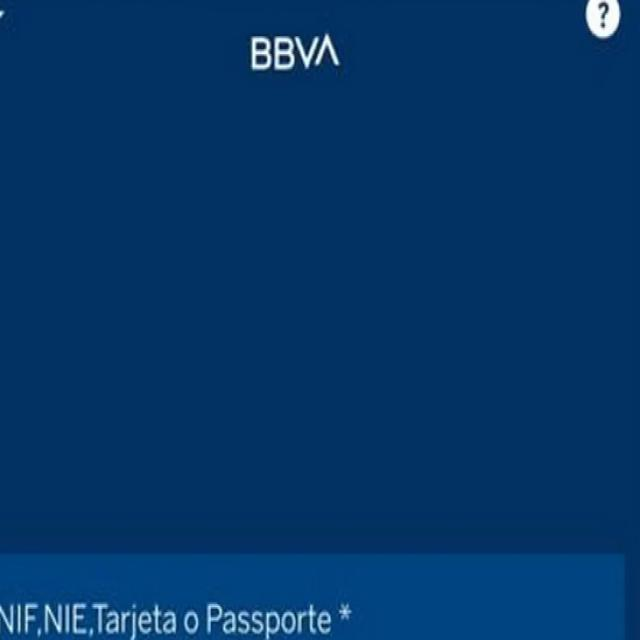BBVA: (249, 32, 340, 73)
